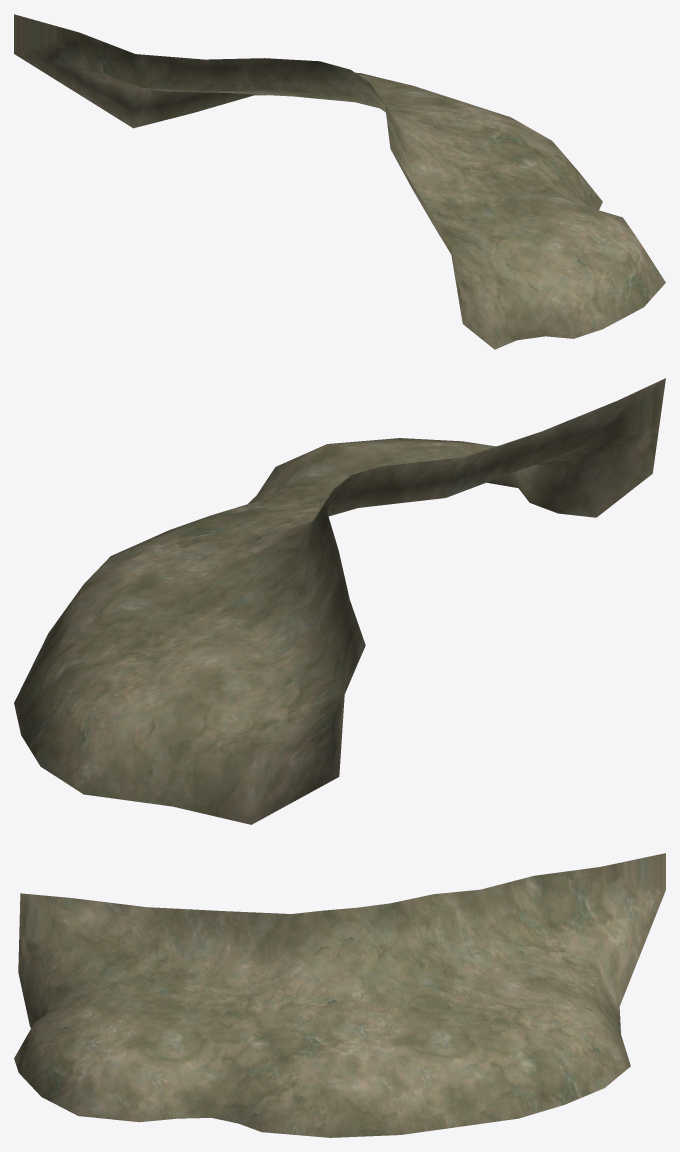
Rendered from OVERHILL_A_01_OBJECT212.fbx.
3 renders of one model, top to bottom at view 1: azimuth 30°, elevation 25°; view 2: azimuth 150°, elevation 25°; view 3: azimuth 270°, elevation 25°, orthographic. The views are drawn at different scales.
Visible parts, largest first — view 1: OVERHILL_A_01_OBJECT212; view 2: OVERHILL_A_01_OBJECT212; view 3: OVERHILL_A_01_OBJECT212.
Boxes of the visible parts, <box> form: OVERHILL_A_01_OBJECT212: <box>14,14,665,349</box>; OVERHILL_A_01_OBJECT212: <box>14,378,665,824</box>; OVERHILL_A_01_OBJECT212: <box>14,853,665,1137</box>.
Size of the model in its own units: 92077 by 33411 by 145594.
1 material, 1 textured.
